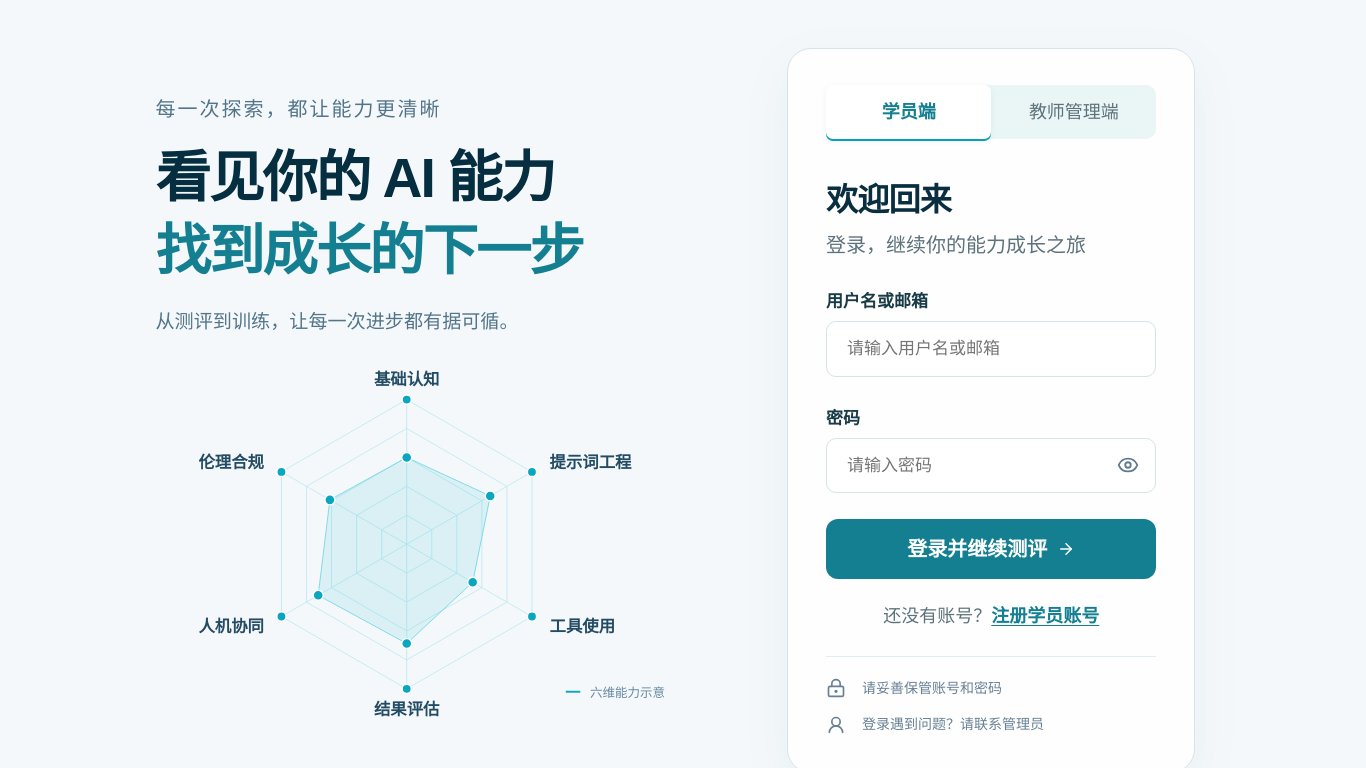
LoginView › does not send duplicate login requests while identity verification is pending
In the field with id "login-identifier": (991, 349) x1=826 y1=321 x2=1156 y2=377, type "learner.demo"
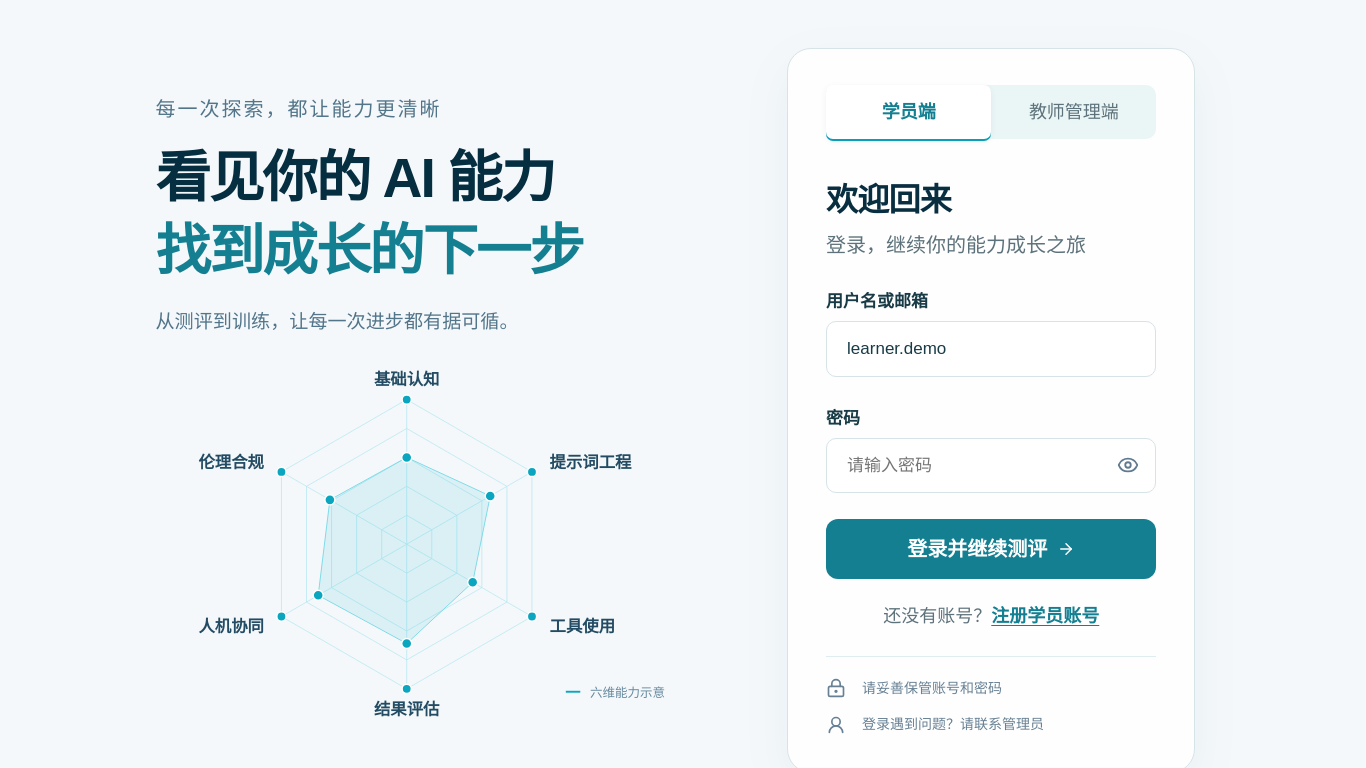
In the password field with id "login-password": (991, 465) x1=826 y1=438 x2=1156 y2=493, type "xxxxxxxxxxxx"
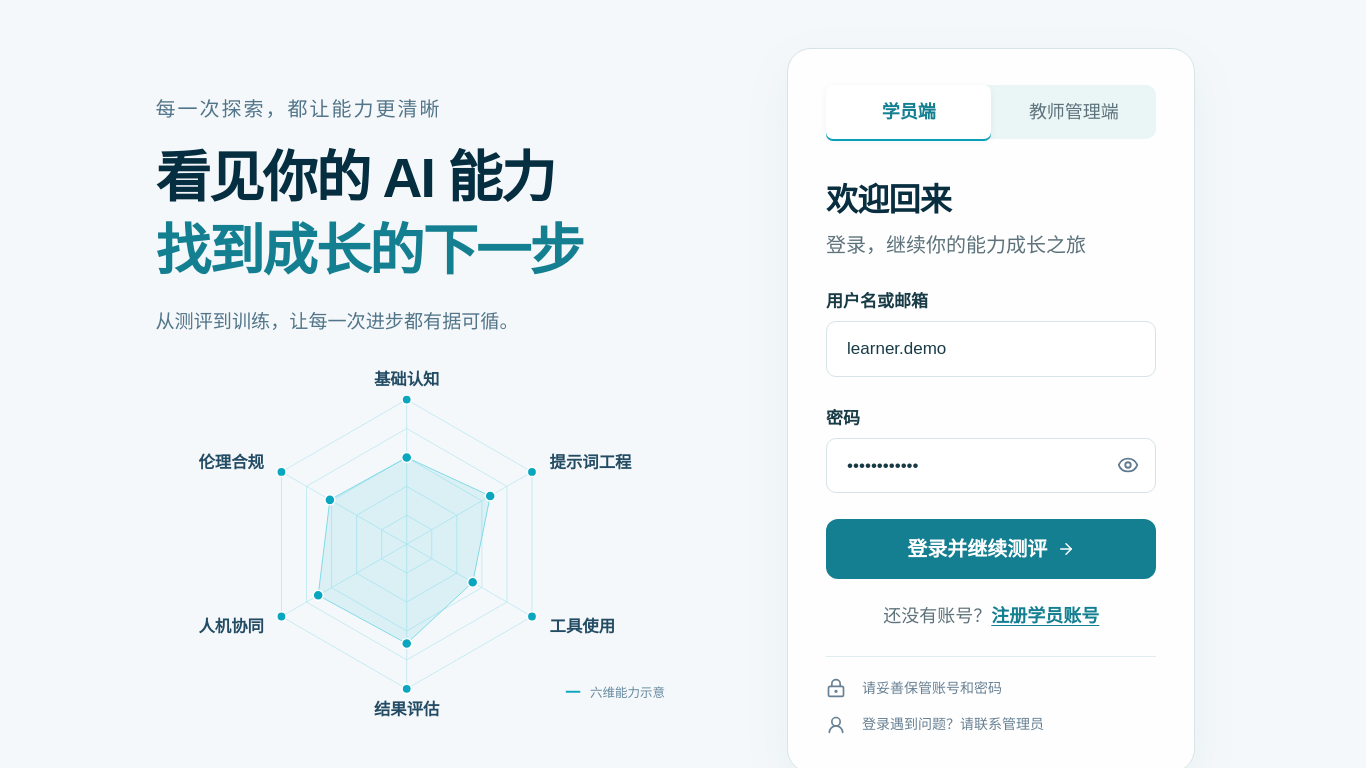
Submit the form, box x1=826 y1=175 x2=1156 y2=736
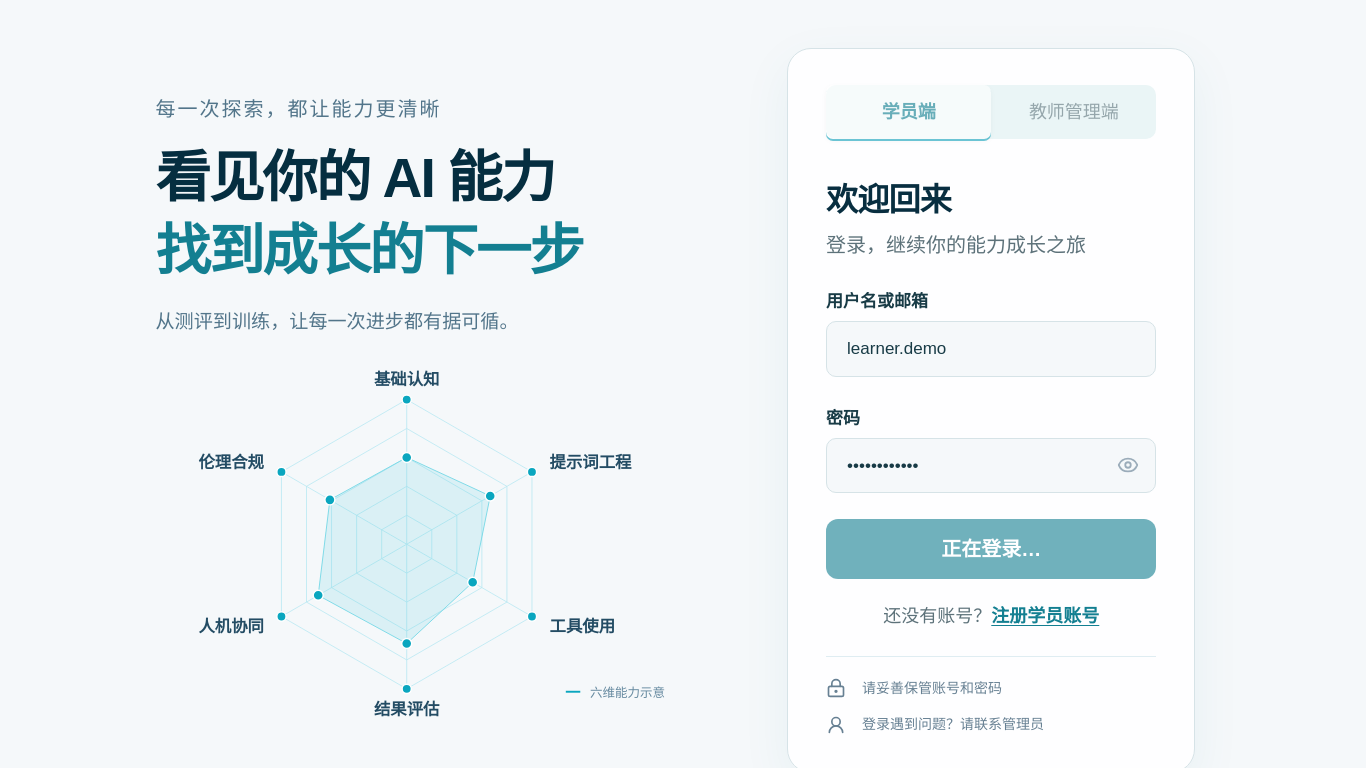
Submit the form, box x1=826 y1=175 x2=1156 y2=736
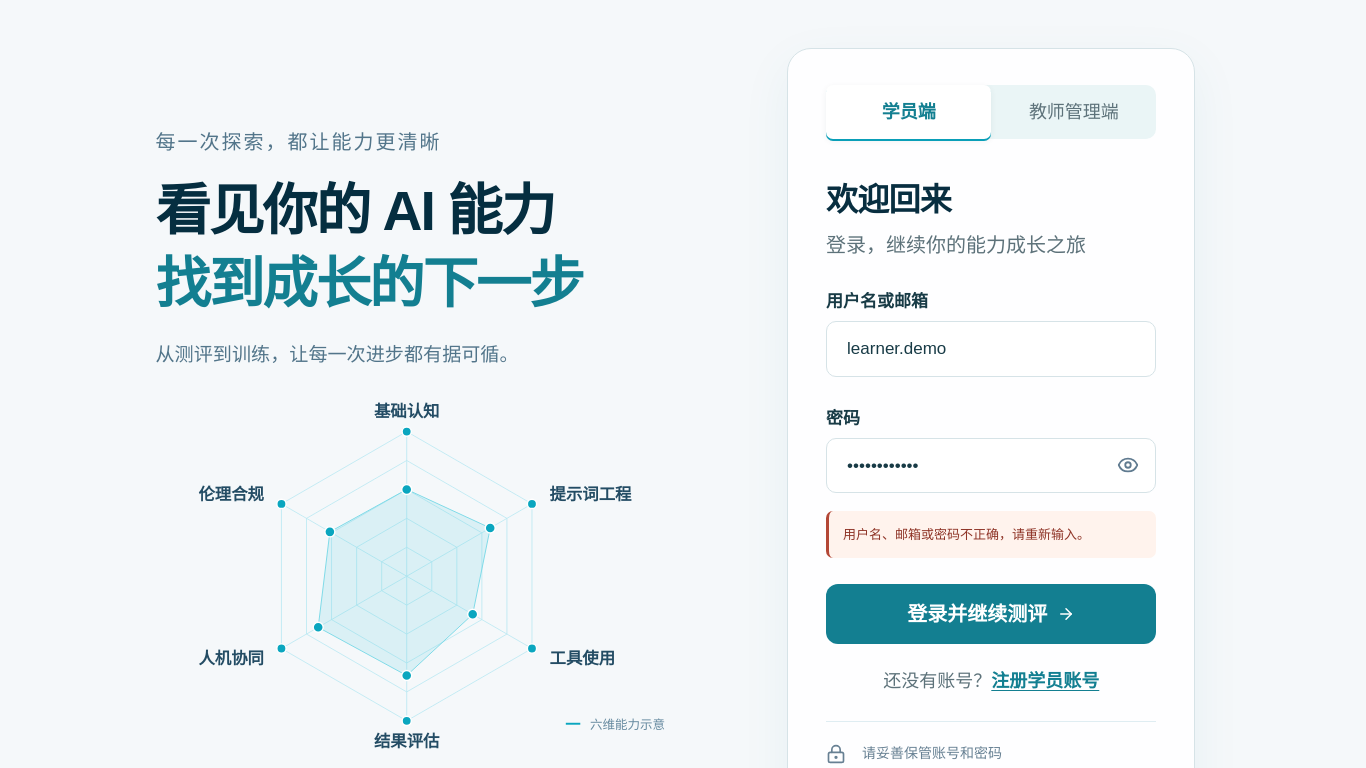
Result: the message "用户名、邮箱或密码不正确，请重新输入。" is shown at x1=826 y1=511 x2=1156 y2=558
Result: the submit button is enabled at x1=826 y1=584 x2=1156 y2=644
